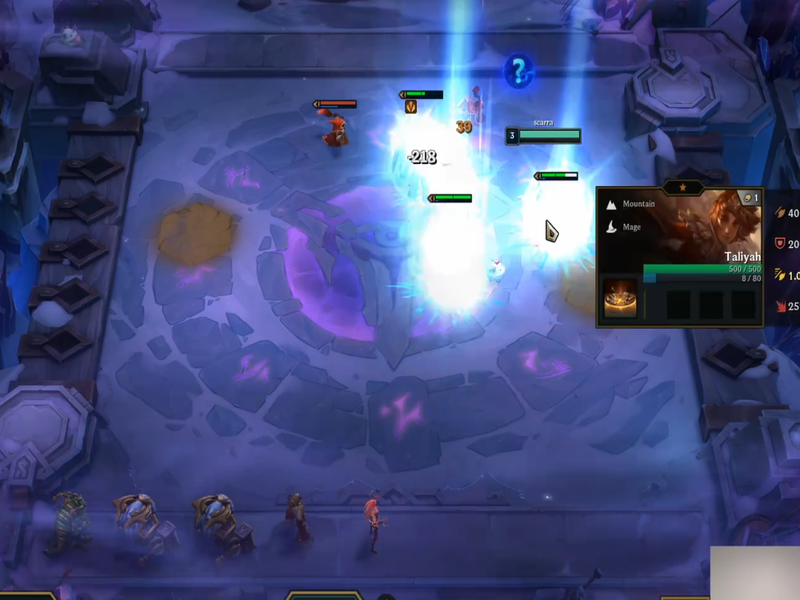blue orb: (504, 49, 538, 94)
